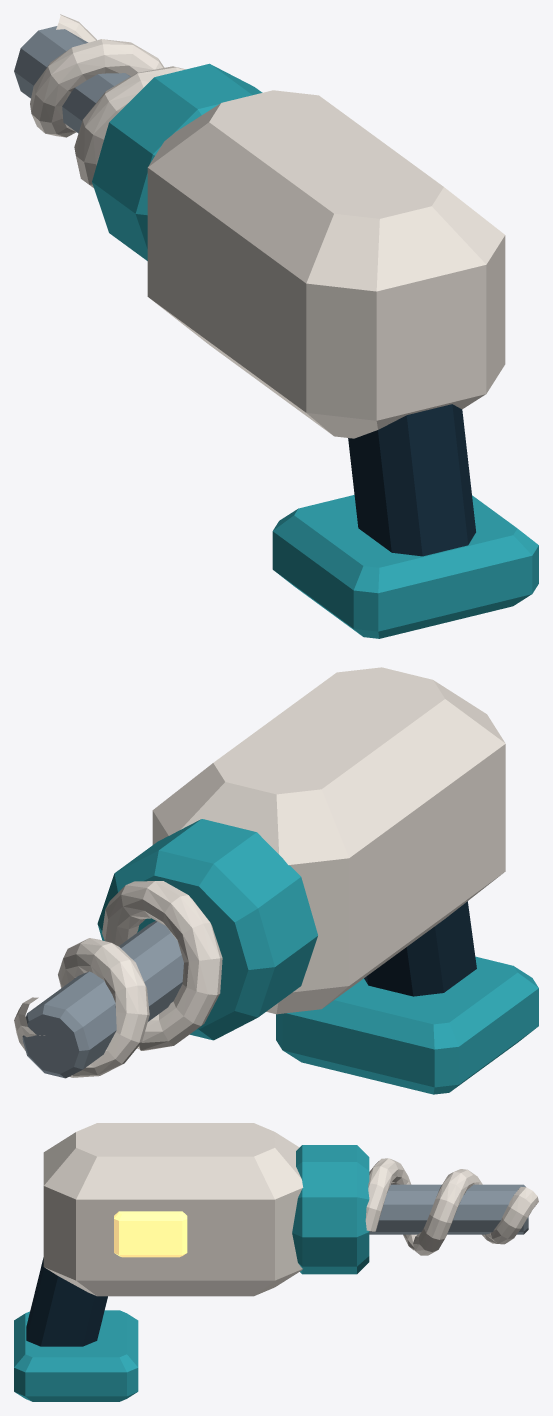
Rendered from taladro_manual.glb.
The picture shows the model from 3 angles, top to bottom: view 1: azimuth 30°, elevation 25°; view 2: azimuth 150°, elevation 25°; view 3: azimuth 270°, elevation 25°; orthographic projection. The views are drawn at different scales.
Visible parts, largest first — view 1: Carcasa, Bateria, Mango, CollarMotor, Helice, Eje; view 2: Carcasa, Bateria, CollarMotor, Helice, Eje, Mango; view 3: Carcasa, CollarMotor, Bateria, Helice, Eje, Mango, Indicador.
Part boxes in pixels (x1=…): Carcasa: x1=147, y1=90, x2=505, y2=438; Bateria: x1=272, y1=495, x2=538, y2=638; Mango: x1=348, y1=404, x2=475, y2=556; CollarMotor: x1=92, y1=63, x2=262, y2=260; Helice: x1=30, y1=14, x2=185, y2=187; Eje: x1=14, y1=26, x2=130, y2=133; Carcasa: x1=152, y1=667, x2=505, y2=1014; Bateria: x1=276, y1=956, x2=538, y2=1094; CollarMotor: x1=97, y1=819, x2=317, y2=1040; Helice: x1=14, y1=881, x2=222, y2=1077; Eje: x1=22, y1=921, x2=183, y2=1078; Mango: x1=364, y1=901, x2=476, y2=996; Carcasa: x1=43, y1=1123, x2=303, y2=1296; CollarMotor: x1=292, y1=1145, x2=369, y2=1274; Bateria: x1=14, y1=1310, x2=138, y2=1401; Helice: x1=365, y1=1158, x2=538, y2=1255; Eje: x1=369, y1=1184, x2=528, y2=1234; Mango: x1=26, y1=1257, x2=107, y2=1346; Indicador: x1=114, y1=1211, x2=187, y2=1257.
Size of the model in its own units: 0.314 by 0.5295 by 1.06.
